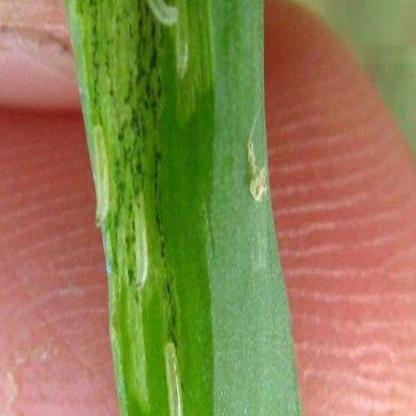whorl-maggot: (88, 119, 112, 236), (130, 190, 152, 289), (159, 340, 187, 416), (174, 0, 192, 81), (144, 0, 182, 31)
